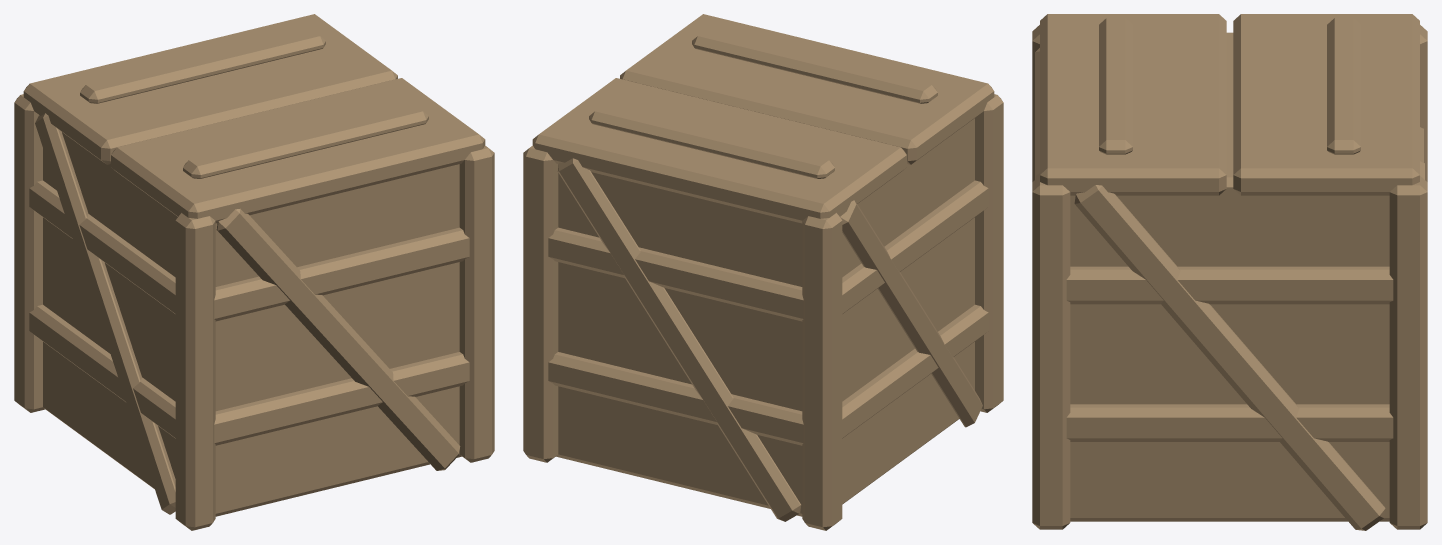
File: crate.glb
3 views of the same model, side by side, from view 1: azimuth 30°, elevation 25°; view 2: azimuth 150°, elevation 25°; view 3: azimuth 270°, elevation 25° (orthographic). The views are drawn at different scales.
Visible parts, largest first — view 1: crate; view 2: crate; view 3: crate.
Part boxes in pixels (x1,y1,x2,y2): crate: [14, 14, 494, 530]; crate: [523, 14, 1003, 530]; crate: [1032, 14, 1427, 530].
Bounding box in the file's own units: 1.04 × 1.08 × 1.04.
